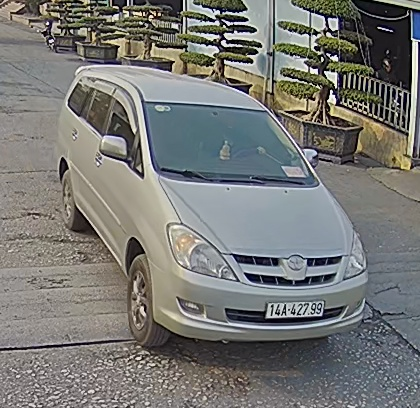vehicle plate: (266, 300, 326, 321)
